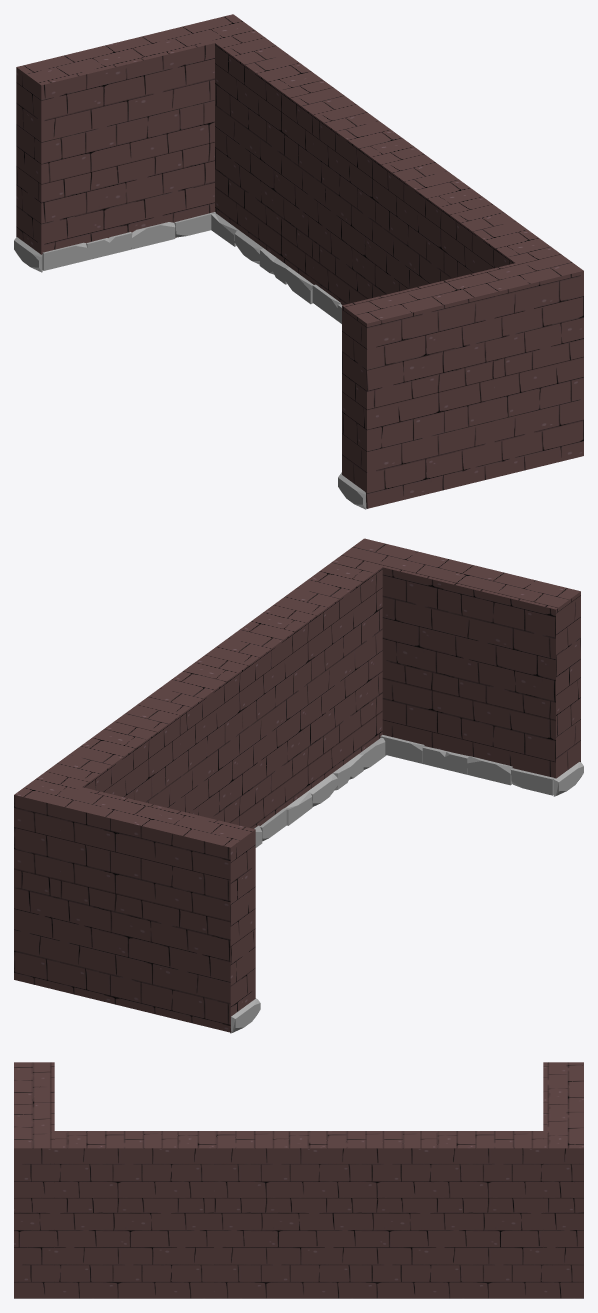
File: MuriE_wall.fbx
3 renders of one model, top to bottom at view 1: azimuth 30°, elevation 25°; view 2: azimuth 150°, elevation 25°; view 3: azimuth 270°, elevation 25°, orthographic. The views are drawn at different scales.
Parts seen in each view (by area): view 1: E_wall; view 2: E_wall; view 3: E_wall.
Part boxes in pixels (box(x1,y1,x2,y2)): E_wall: box(14, 14, 583, 509); E_wall: box(14, 538, 583, 1033); E_wall: box(14, 1062, 583, 1298).
Size of the model in its own units: 508 by 411 by 1400.
2 materials, 1 textured.
